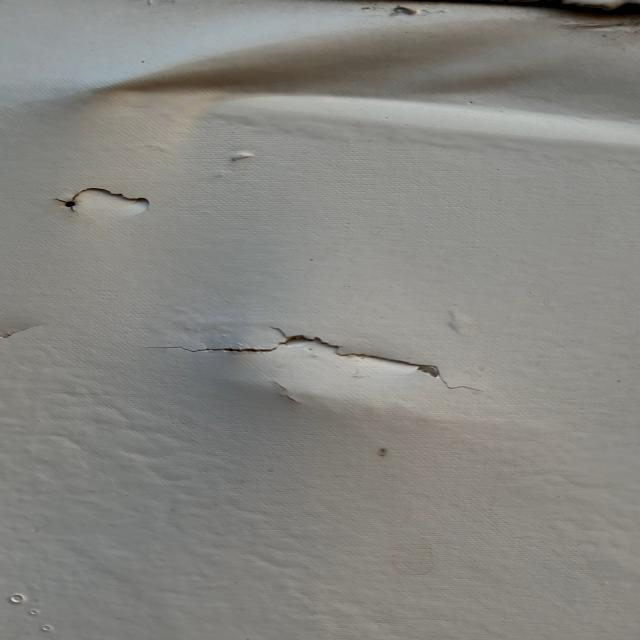Dents or Deformation: (88, 25, 640, 144)
Scratches: (167, 310, 471, 400), (27, 170, 228, 240), (1, 305, 44, 349)
